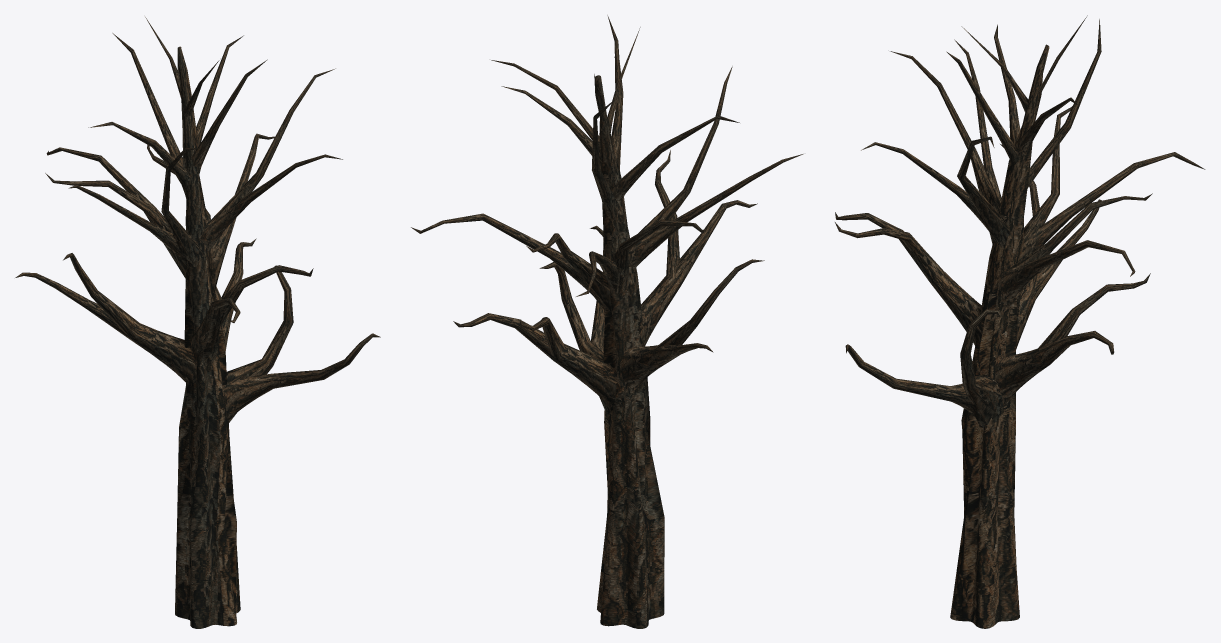
File: arvoresemfolhas.fbx
The picture shows the model from 3 angles, left to right: view 1: azimuth 30°, elevation 25°; view 2: azimuth 150°, elevation 25°; view 3: azimuth 270°, elevation 25°; orthographic projection. The views are drawn at different scales.
Parts seen in each view (by area): view 1: clay-banks-4u629vfd3vi-unsplash_0; view 2: clay-banks-4u629vfd3vi-unsplash_0; view 3: clay-banks-4u629vfd3vi-unsplash_0.
Boxes of the visible parts, x1,y1,x2,y2 form: clay-banks-4u629vfd3vi-unsplash_0: (15, 17, 380, 628); clay-banks-4u629vfd3vi-unsplash_0: (411, 15, 803, 628); clay-banks-4u629vfd3vi-unsplash_0: (835, 15, 1205, 628).
Size of the model in its own units: 399 by 722 by 412.
